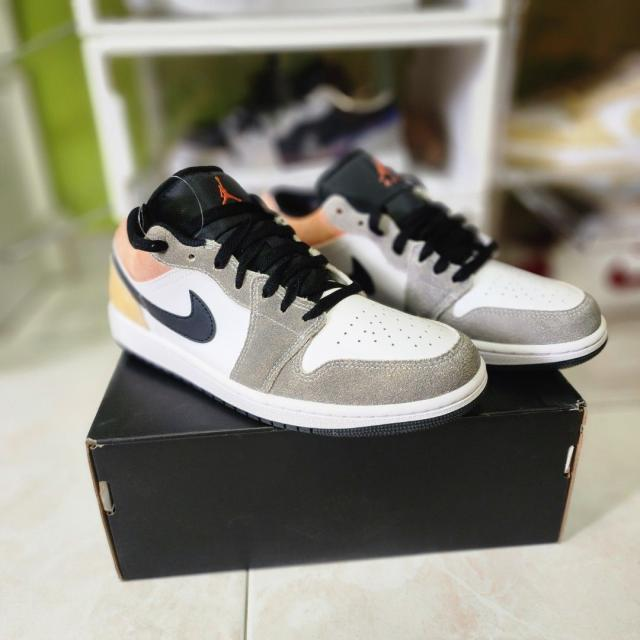nike original jordan 1: (101, 164, 493, 442), (270, 148, 610, 378)
